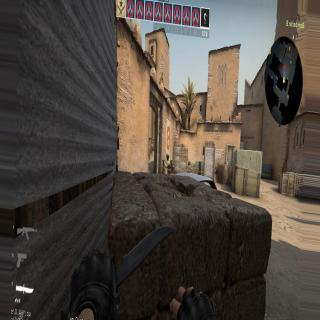CT-Body: (163, 151, 175, 174)
CT-Head: (166, 152, 170, 160)
